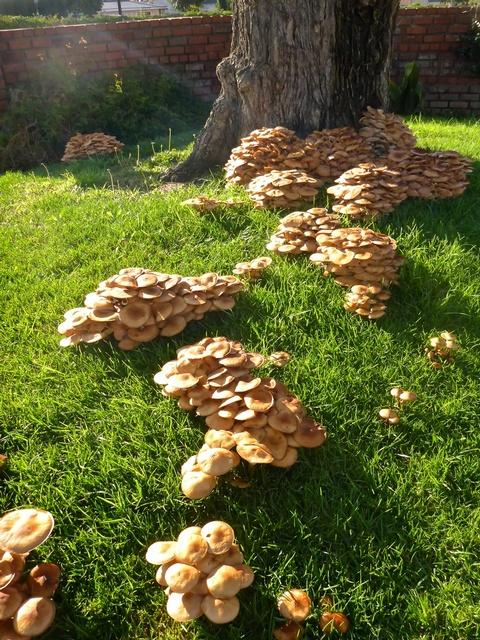edible_mushroom: (223, 96, 480, 210), (153, 334, 326, 499), (262, 209, 411, 325), (57, 265, 244, 350), (144, 519, 254, 624), (0, 506, 60, 638), (54, 118, 145, 172)
